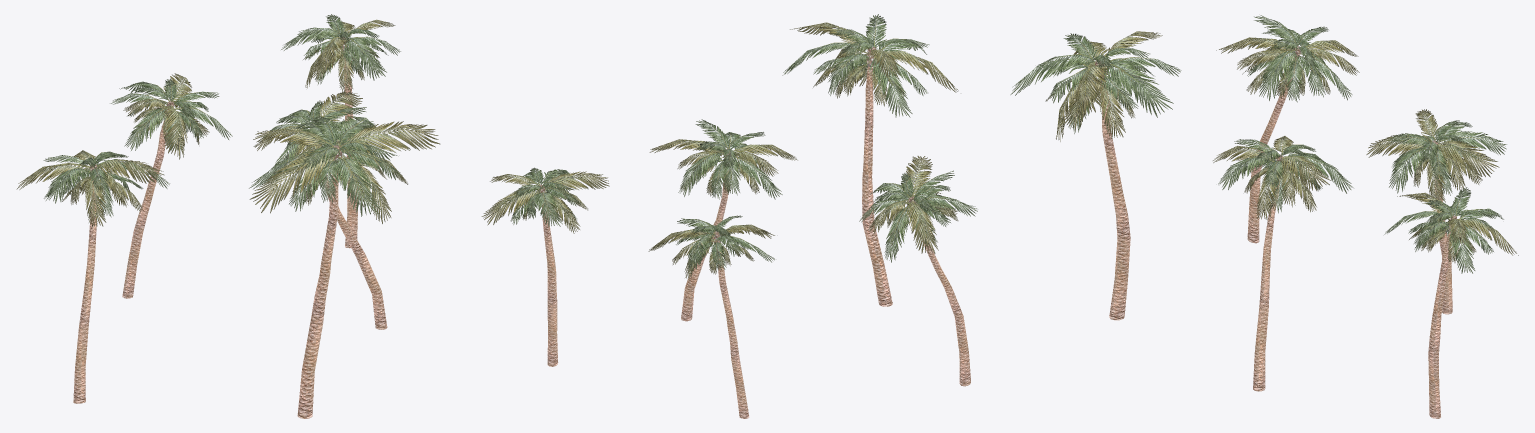
Rendered from realistic_palm_tree_low_poly.glb.
The picture shows the model from 3 angles, left to right: view 1: azimuth 30°, elevation 25°; view 2: azimuth 150°, elevation 25°; view 3: azimuth 270°, elevation 25°; orthographic projection. The views are drawn at different scales.
Parts seen in each view (by area): view 1: Palm Tree By Hamza_002, Palm Tree By Hamza_003, Palm Tree By Hamza_004, Palm Tree By Hamza_006, Palm Tree By Hamza_005; view 2: Palm Tree By Hamza_002, Palm Tree By Hamza_003, Palm Tree By Hamza_005, Palm Tree By Hamza_006, Palm Tree By Hamza_004; view 3: Palm Tree By Hamza_002, Palm Tree By Hamza_005, Palm Tree By Hamza_003, Palm Tree By Hamza_004, Palm Tree By Hamza_006.
Part boxes in pixels (x1,y1,x2,y2): Palm Tree By Hamza_002: [249, 116, 440, 418]; Palm Tree By Hamza_003: [16, 150, 169, 403]; Palm Tree By Hamza_004: [110, 73, 232, 298]; Palm Tree By Hamza_006: [281, 14, 400, 248]; Palm Tree By Hamza_005: [253, 91, 387, 329]; Palm Tree By Hamza_002: [782, 14, 958, 306]; Palm Tree By Hamza_003: [859, 156, 977, 386]; Palm Tree By Hamza_005: [649, 119, 797, 321]; Palm Tree By Hamza_006: [481, 167, 609, 366]; Palm Tree By Hamza_004: [648, 215, 774, 418]; Palm Tree By Hamza_002: [1010, 31, 1181, 320]; Palm Tree By Hamza_005: [1213, 136, 1353, 391]; Palm Tree By Hamza_003: [1216, 15, 1359, 243]; Palm Tree By Hamza_004: [1366, 109, 1506, 314]; Palm Tree By Hamza_006: [1384, 187, 1518, 418].
Bounding box in the file's own units: 16.8 × 10.29 × 16.89.
Materials: 1 (1 with a texture image).
